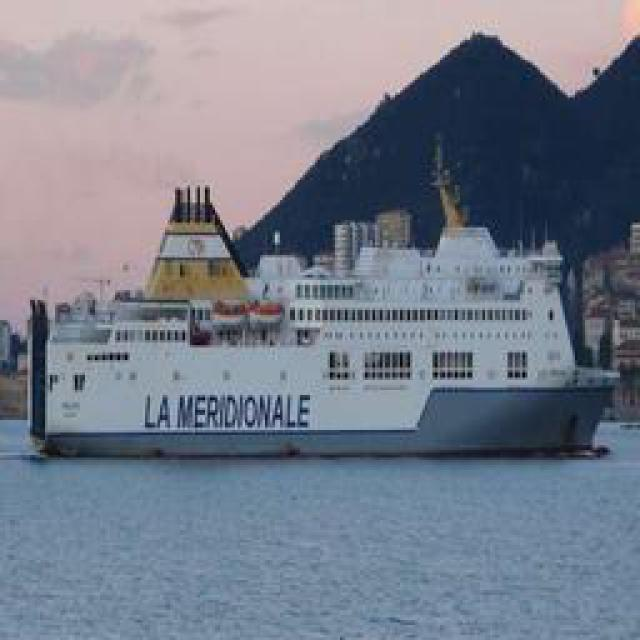Ship: (36, 175, 619, 455)
